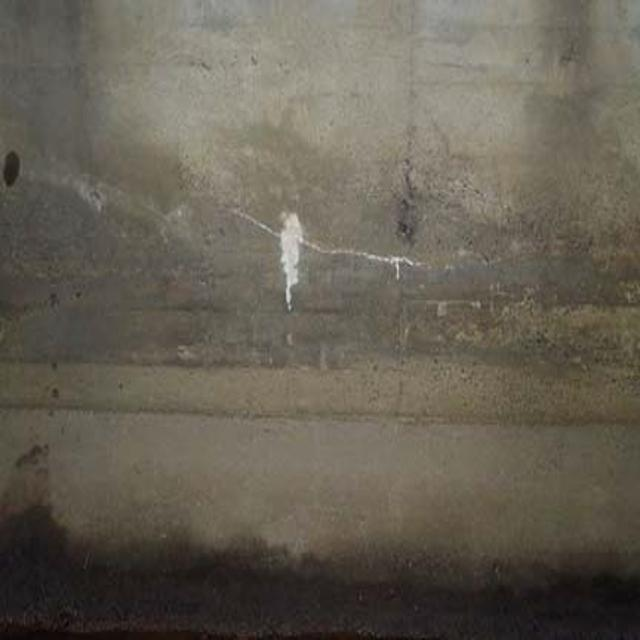freelime: (264, 208, 316, 312)
